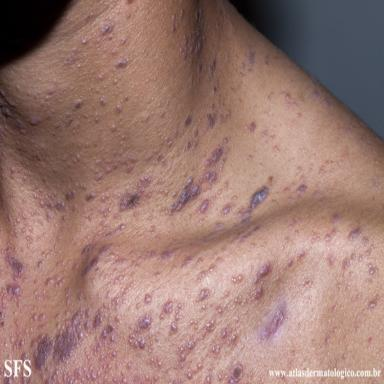lichen: (31, 283, 132, 370), (62, 322, 127, 384), (180, 0, 203, 59), (236, 187, 269, 227), (0, 89, 26, 135), (169, 177, 200, 215), (119, 175, 151, 211), (259, 304, 287, 340), (82, 244, 113, 276), (129, 315, 151, 349), (198, 259, 221, 281), (5, 257, 23, 281), (6, 283, 23, 307), (205, 146, 223, 167), (179, 339, 196, 361), (254, 262, 271, 283), (185, 361, 203, 379), (121, 153, 137, 173), (103, 224, 125, 237), (40, 200, 53, 222), (46, 273, 65, 287), (0, 287, 8, 320), (229, 365, 242, 384), (64, 47, 77, 65), (13, 332, 25, 351), (46, 200, 65, 210), (348, 227, 361, 241), (161, 249, 178, 259), (325, 228, 337, 242), (102, 21, 113, 35), (26, 116, 41, 126), (197, 289, 209, 301), (204, 172, 217, 183), (195, 37, 203, 54), (209, 59, 216, 78), (65, 189, 76, 201), (186, 139, 198, 150), (207, 114, 216, 128), (181, 257, 192, 268), (253, 287, 263, 299), (163, 301, 173, 313), (247, 51, 255, 66), (200, 200, 209, 213), (296, 185, 307, 195), (175, 303, 181, 321), (368, 263, 377, 275), (46, 88, 55, 100), (32, 313, 45, 321), (222, 204, 231, 215), (205, 321, 214, 332), (82, 245, 92, 254), (85, 192, 95, 201), (232, 275, 243, 283), (366, 244, 374, 255), (115, 60, 127, 67), (95, 169, 102, 181), (211, 345, 220, 354), (74, 99, 82, 109), (248, 123, 256, 133), (297, 250, 305, 260), (24, 222, 32, 232), (1, 246, 11, 254), (185, 115, 192, 126), (221, 330, 229, 339), (37, 259, 45, 268), (72, 154, 80, 163), (144, 294, 151, 304), (362, 236, 369, 246), (171, 322, 177, 333), (197, 62, 203, 73), (171, 15, 175, 31), (333, 214, 340, 223), (235, 296, 242, 305), (66, 117, 73, 126), (343, 259, 349, 269), (264, 55, 269, 67), (216, 306, 223, 314), (100, 98, 107, 106), (369, 301, 376, 308), (26, 236, 33, 243), (287, 259, 293, 267), (110, 124, 116, 132), (11, 167, 15, 179), (193, 128, 198, 137), (116, 105, 121, 114), (14, 228, 18, 239), (350, 253, 356, 260), (80, 183, 86, 190), (82, 38, 87, 45), (106, 167, 111, 173), (285, 236, 289, 243), (359, 255, 363, 261), (124, 95, 128, 101), (114, 163, 118, 169), (21, 228, 25, 234), (13, 246, 17, 252), (17, 217, 20, 223), (23, 278, 27, 282), (295, 231, 299, 235), (23, 213, 26, 218), (21, 247, 24, 252)
